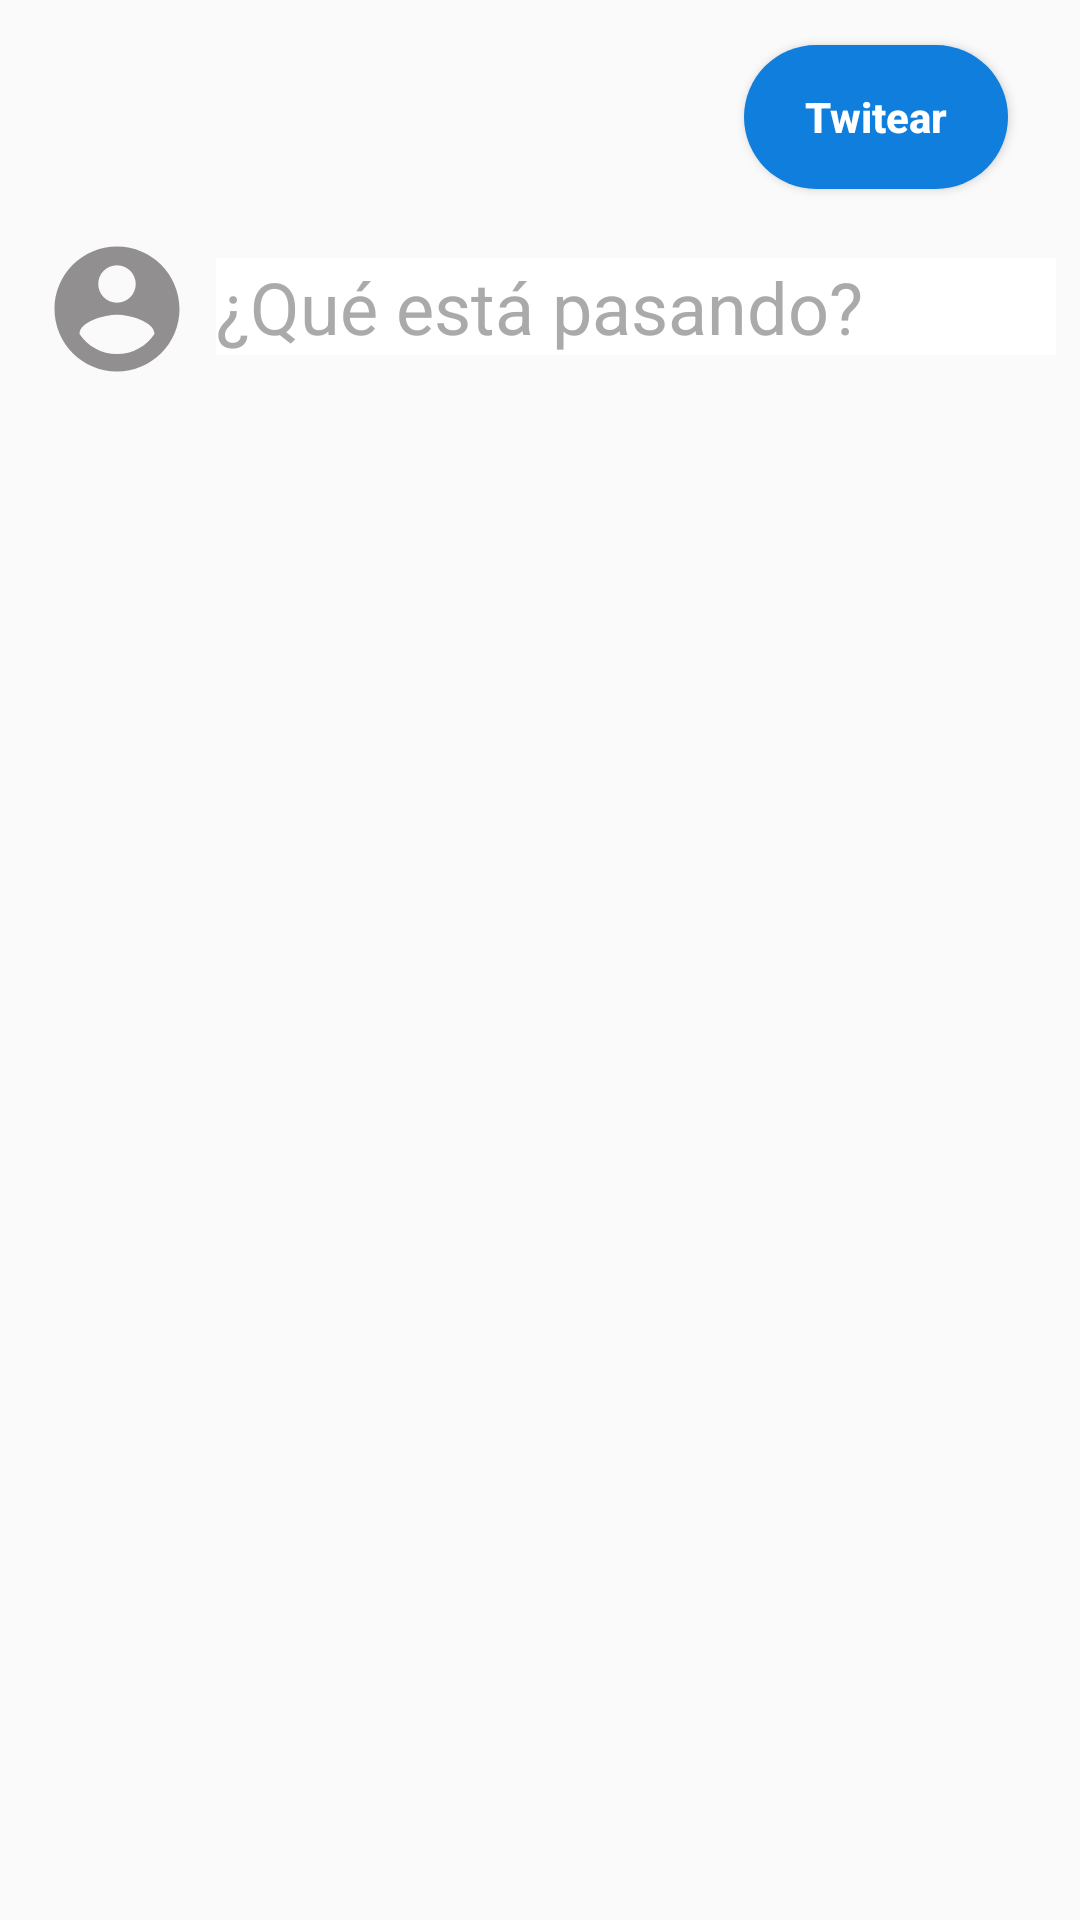

Icon click points for this 1080w x 1920h phone screenshot, format [x,y]:
account circle: [117,309]
